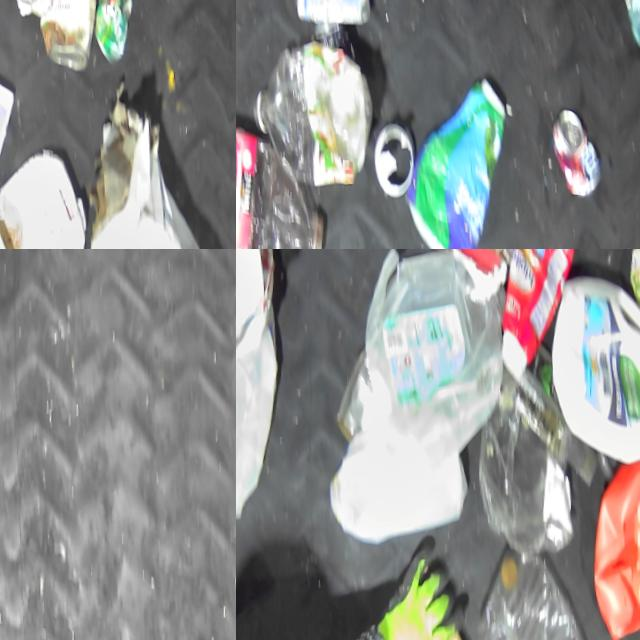can: (543, 99, 602, 195), (31, 0, 100, 75), (366, 112, 416, 195), (84, 0, 134, 62)
milk_jug: (351, 249, 509, 463), (319, 413, 471, 551), (539, 261, 640, 466), (236, 275, 285, 525), (0, 134, 90, 249)
non_white_jug: (391, 63, 511, 249), (575, 437, 640, 640), (486, 249, 582, 379)
plastic_bottle: (242, 30, 379, 189), (460, 529, 599, 640), (236, 110, 326, 249), (605, 0, 640, 72)
